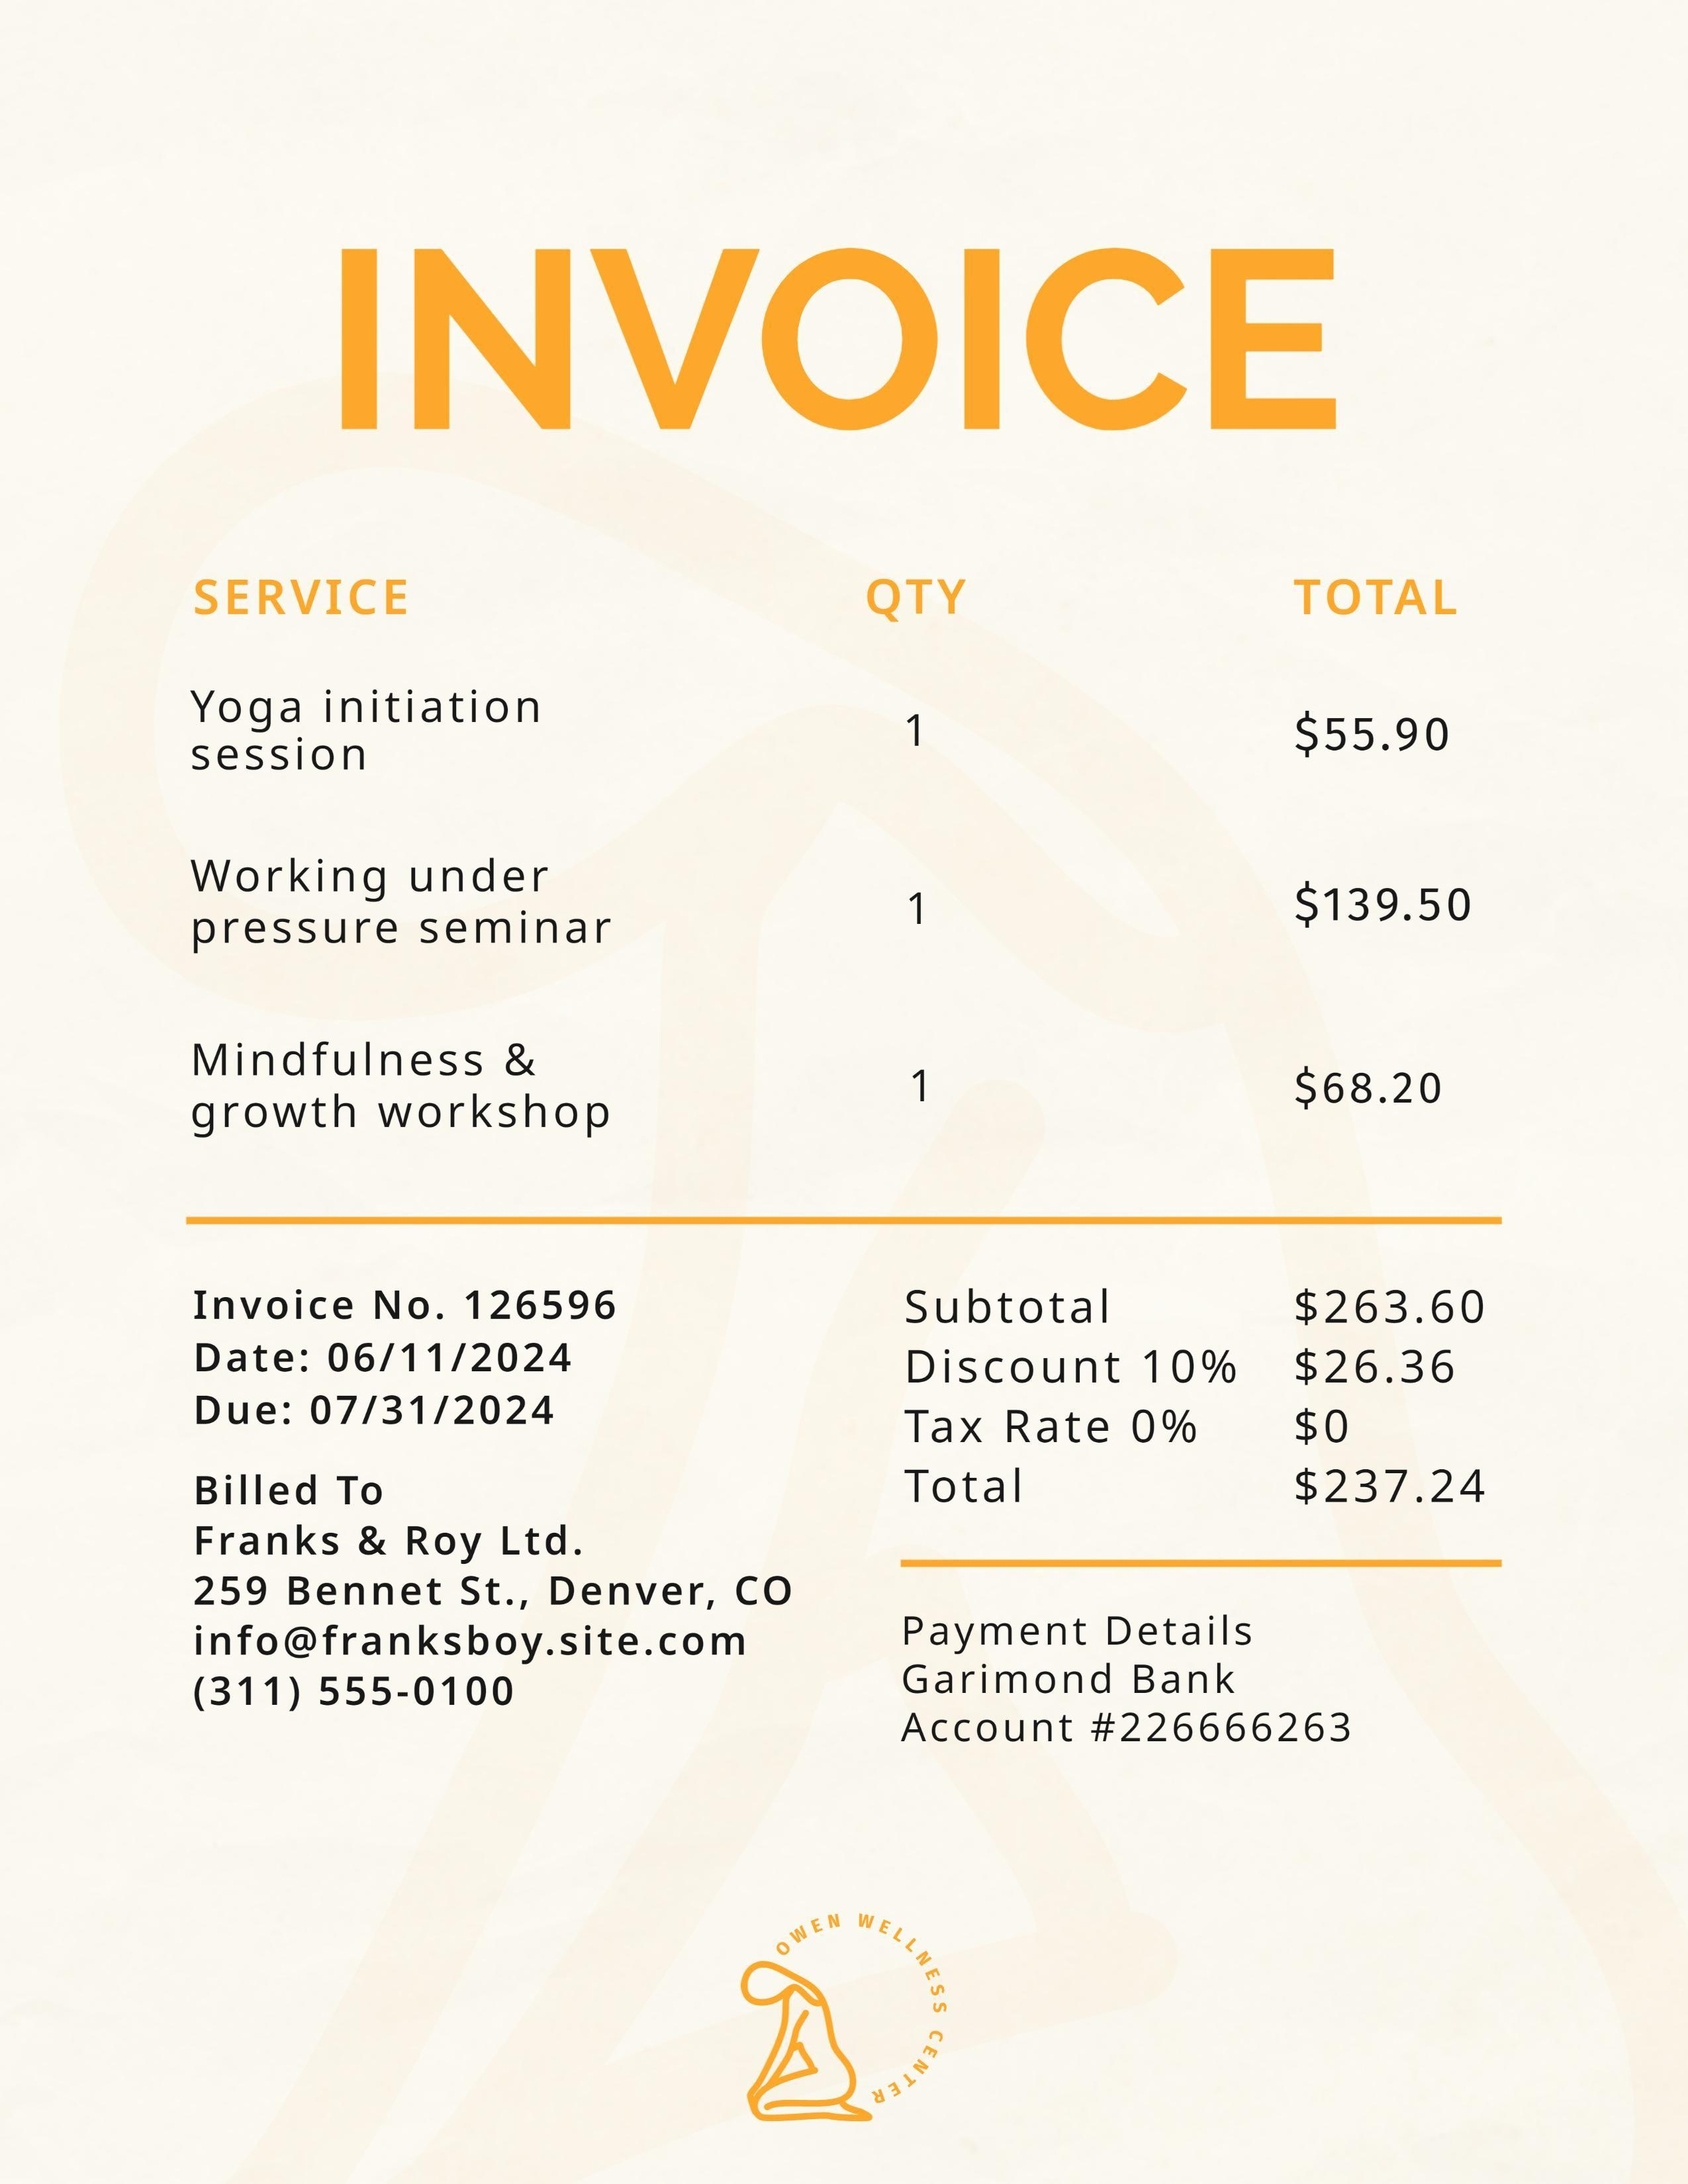ROI: (163, 555, 1491, 1165), (179, 1462, 812, 1744), (883, 1262, 1528, 1537), (883, 1587, 1399, 1767), (184, 1275, 656, 1461)
